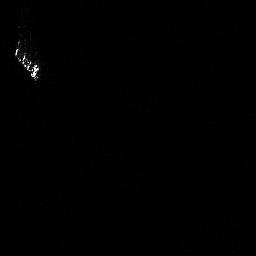ship: (10, 46, 41, 83)
